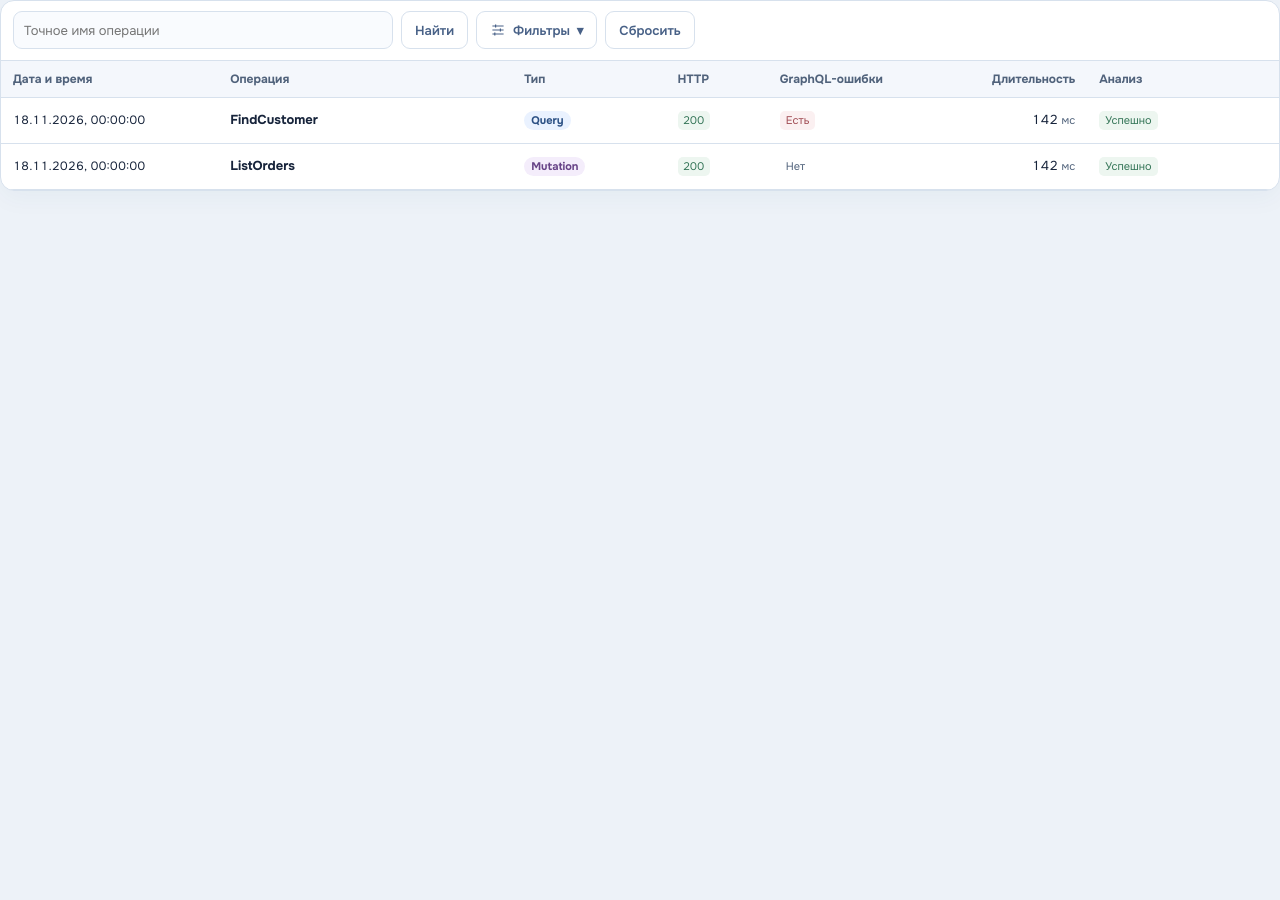
Scenario: aborts late detail reads on rapid request selection and does not replace the current diagnostics
Click the button "FindCustomer". click: click(274, 120)
box: top-left (230, 111), bottom-right (318, 130)
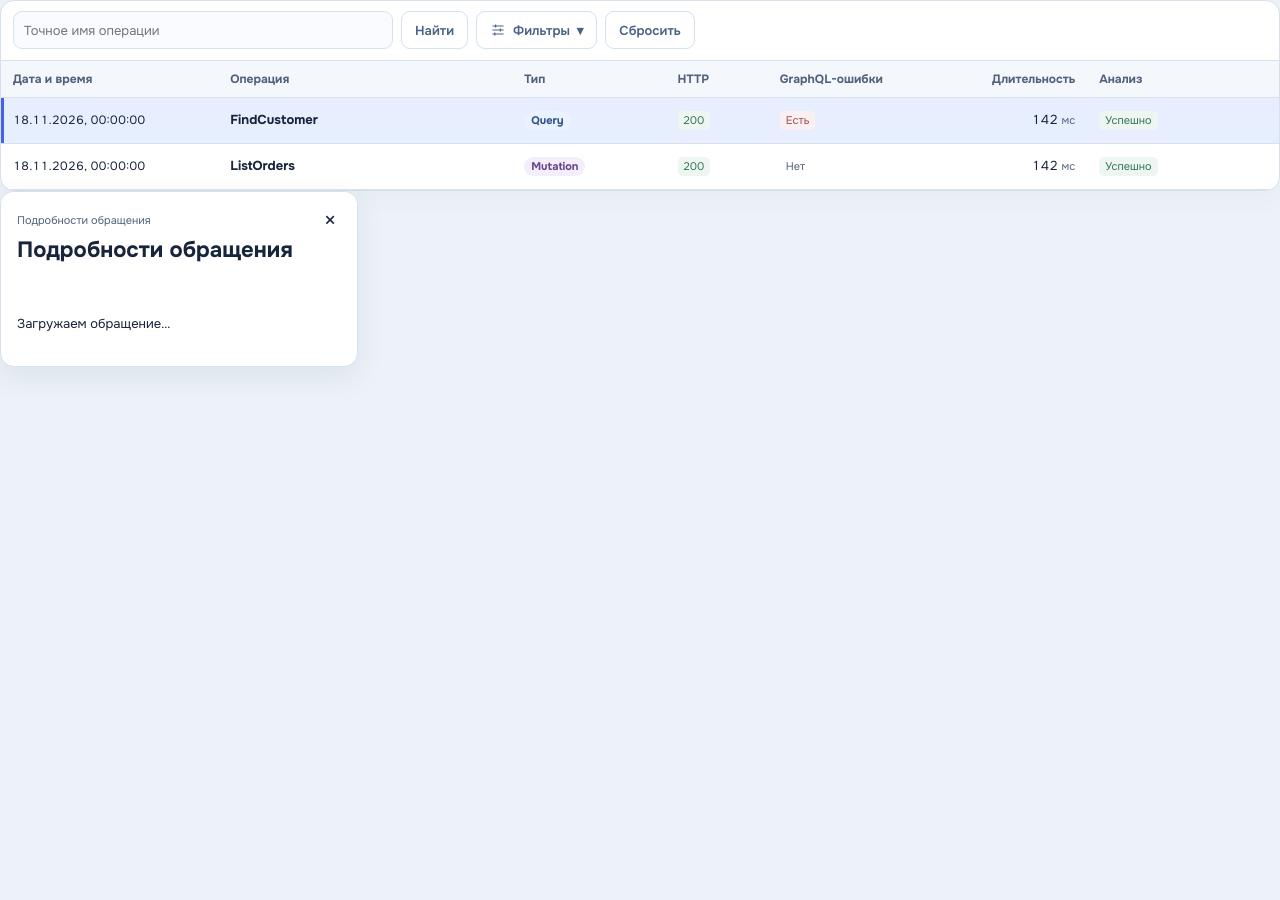
Now the message "Загружаем обращение…" is shown, box top-left (17, 315), bottom-right (170, 332)
Click the button "ListOrders". click: click(263, 166)
box: top-left (230, 157), bottom-right (295, 176)
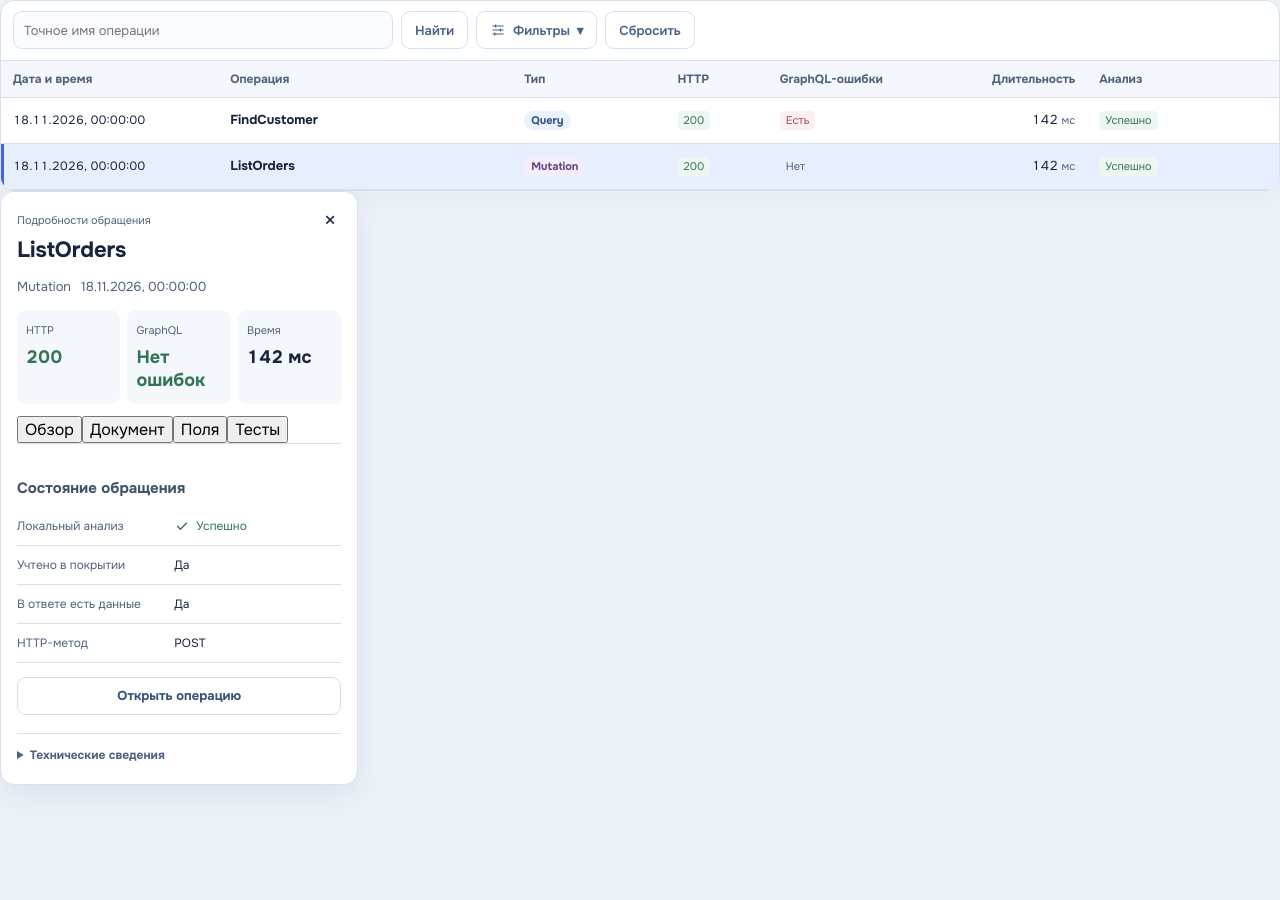
Now the heading "ListOrders" is shown, box top-left (17, 236), bottom-right (126, 264)
Now the element with class "request-quick-facts" shows "Нет ошибок", box top-left (136, 346), bottom-right (205, 391)
